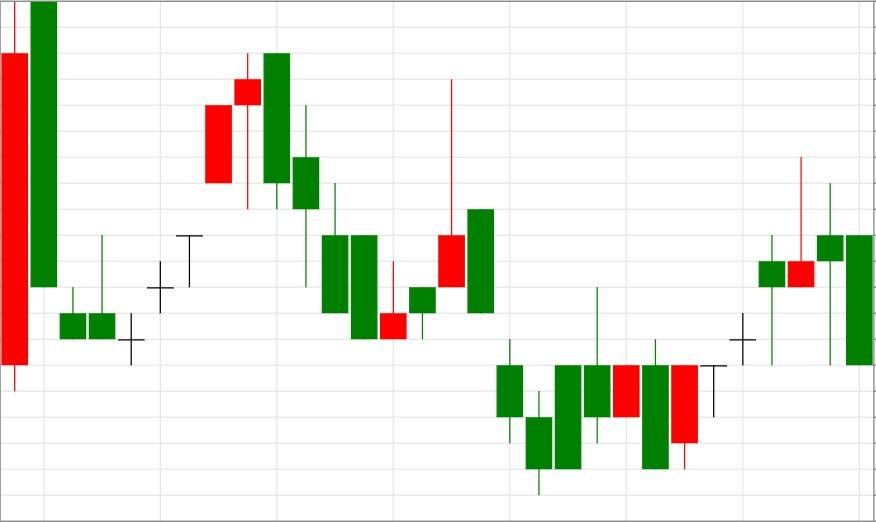bearish_engulfing_fall: (117, 53, 291, 366)
inverse_hammer_rise: (233, 52, 408, 340)
shooting_star_fall: (641, 157, 816, 469), (350, 78, 466, 339)
